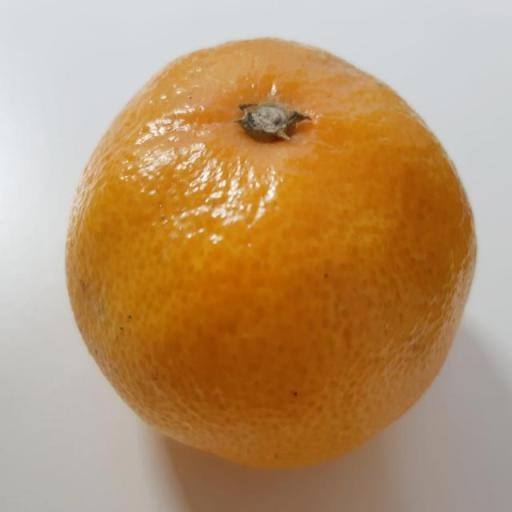fruit: (407, 161, 489, 512)
